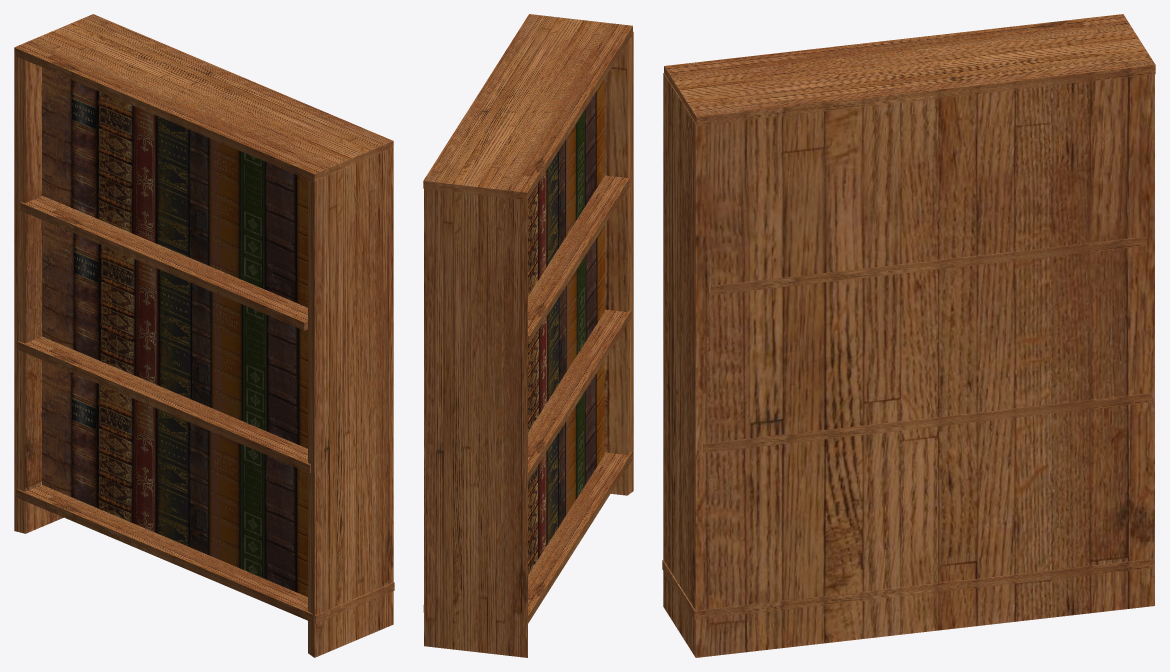
Rendered from Bookshelf_160-137-022__8c6230f5-7dfd-40f1-94b2-5e114a7fb760.dae.
The picture shows the model from 3 angles, left to right: view 1: azimuth 30°, elevation 25°; view 2: azimuth 150°, elevation 25°; view 3: azimuth 270°, elevation 25°; orthographic projection. The views are drawn at different scales.
Parts seen in each view (by area): view 1: Primitive (×6), Bookshelf (×2); view 2: Bookshelf (×2), Primitive (×6); view 3: Bookshelf, Primitive (×4).
Part boxes in pixels (left/top/right/bottom): Primitive (×6): left=14, top=14, right=394, bottom=623; Bookshelf (×2): left=14, top=54, right=393, bottom=657; Bookshelf (×2): left=424, top=31, right=633, bottom=657; Primitive (×6): left=423, top=14, right=632, bottom=623; Bookshelf: left=663, top=73, right=1154, bottom=657; Primitive (×4): left=662, top=14, right=1155, bottom=619.
Bounding box in the file's own units: 0.6617 × 1.33 × 1.61.
